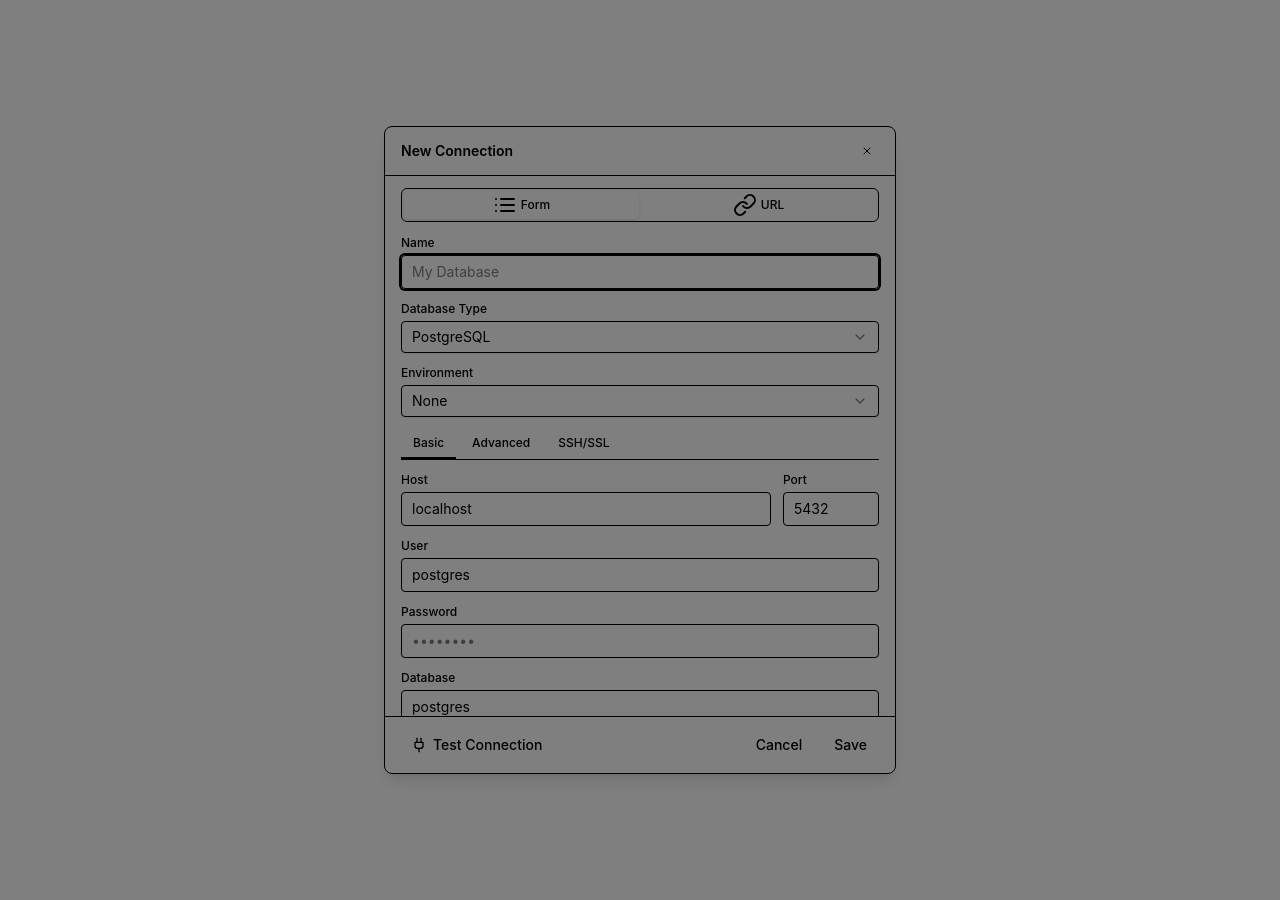
Scenario: [AC-178-03] host:port blur split › [AC-178-03a] localhost:5433 splits into host=localhost, port=5433
Step 1. Type "localhost:5433" into the field labelled "Host" → (586, 509), box left=401, top=492, right=771, bottom=526
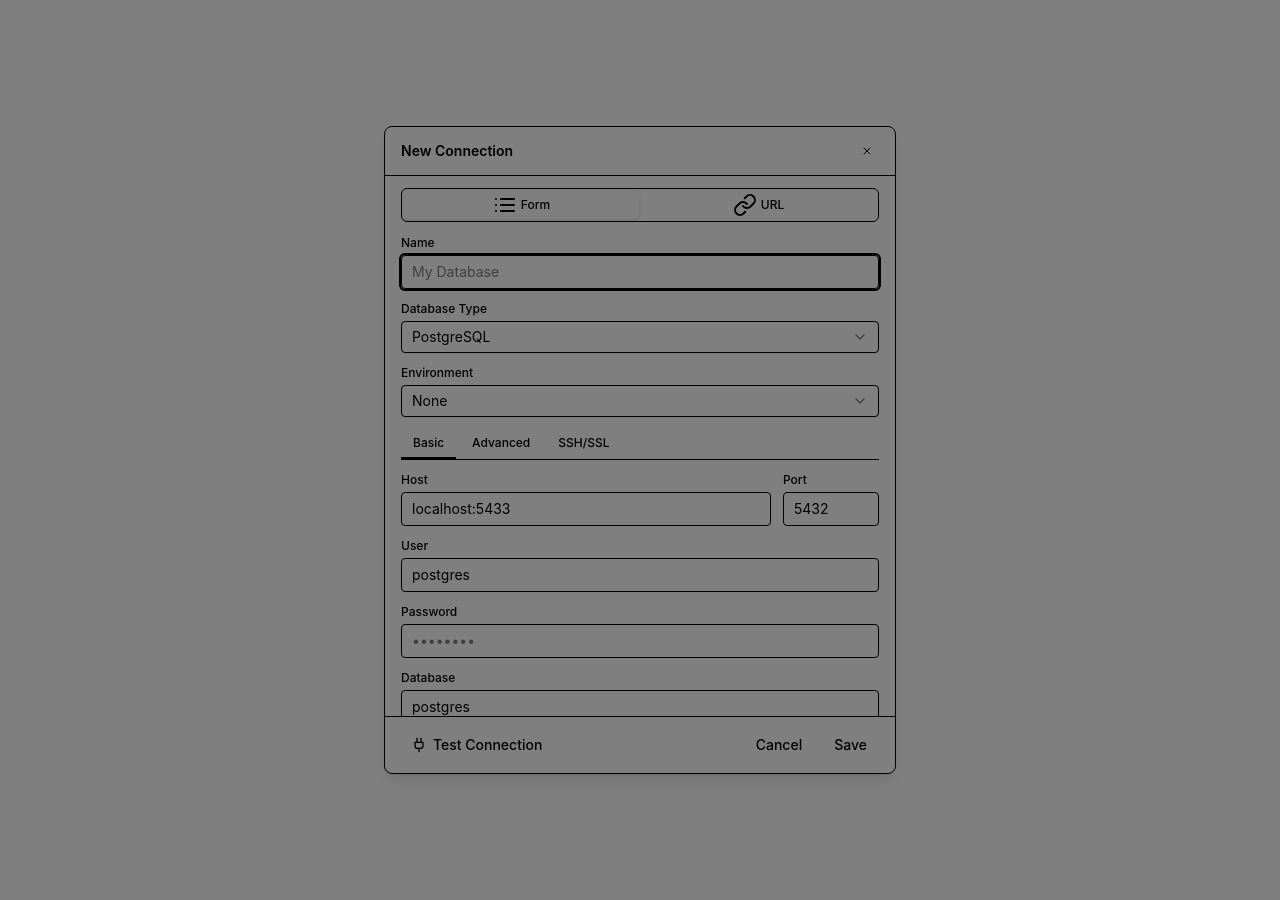
Step 2. Leave the field labelled "Host", box left=401, top=492, right=771, bottom=526
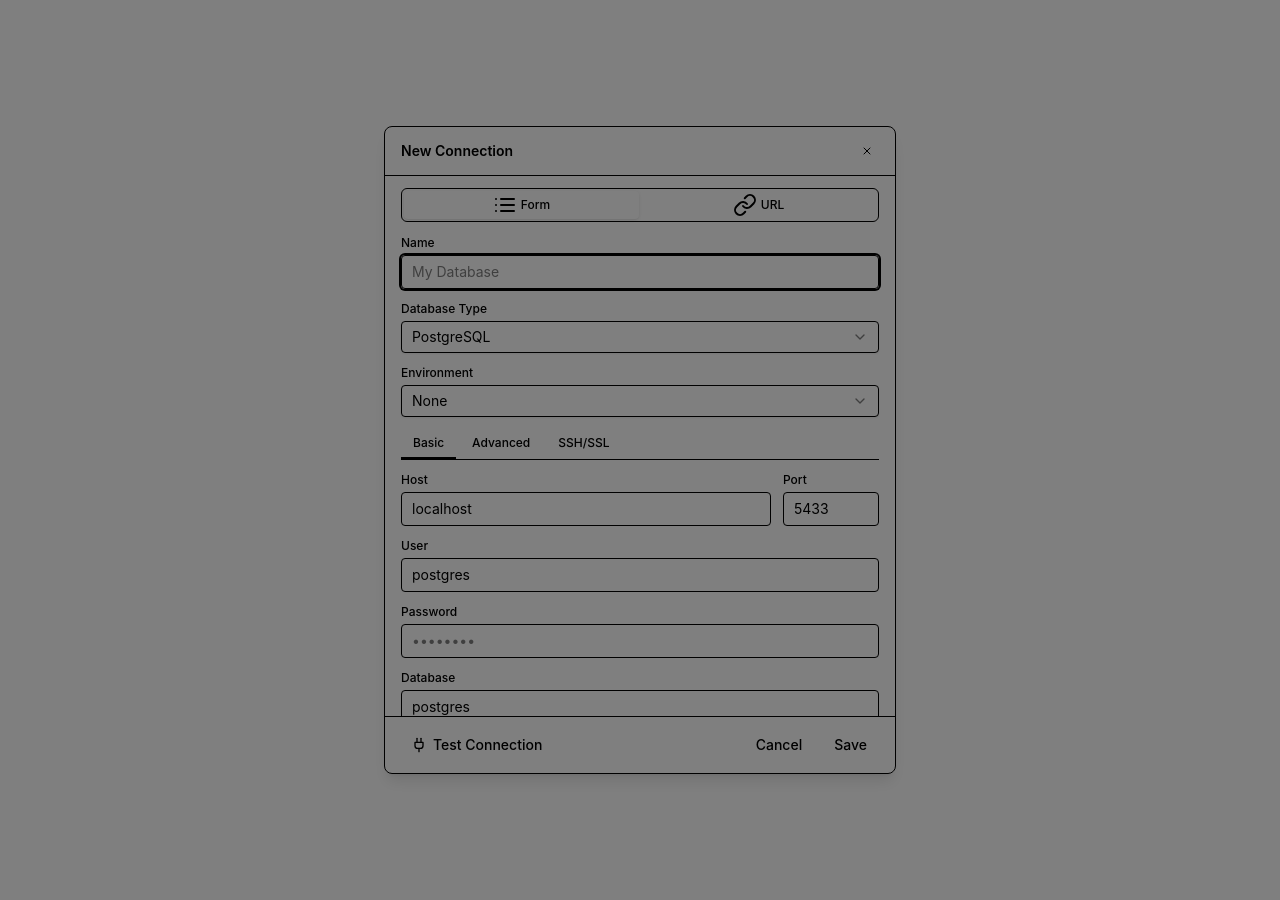
Expected: the number field labelled "Port" holds "5433", left=783, top=492, right=879, bottom=526
Expected: the field labelled "Host" holds "localhost", left=401, top=492, right=771, bottom=526
